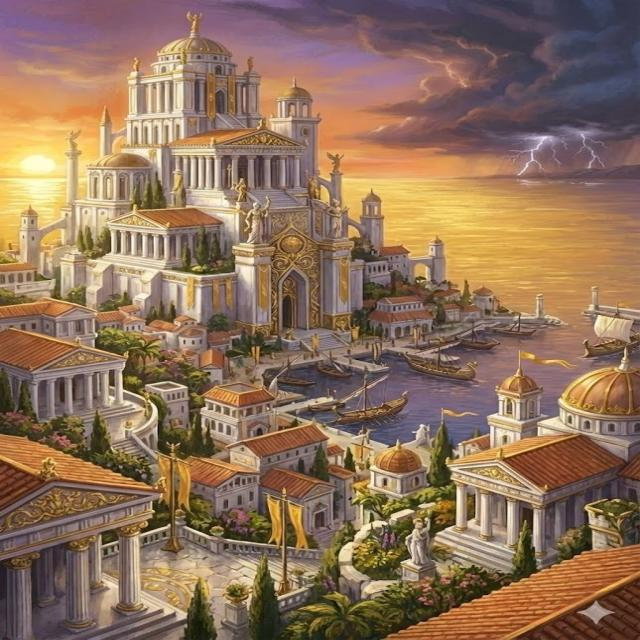castle: (17, 4, 464, 337)
